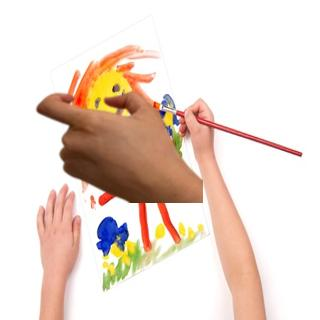HATE: (28, 87, 187, 200)
